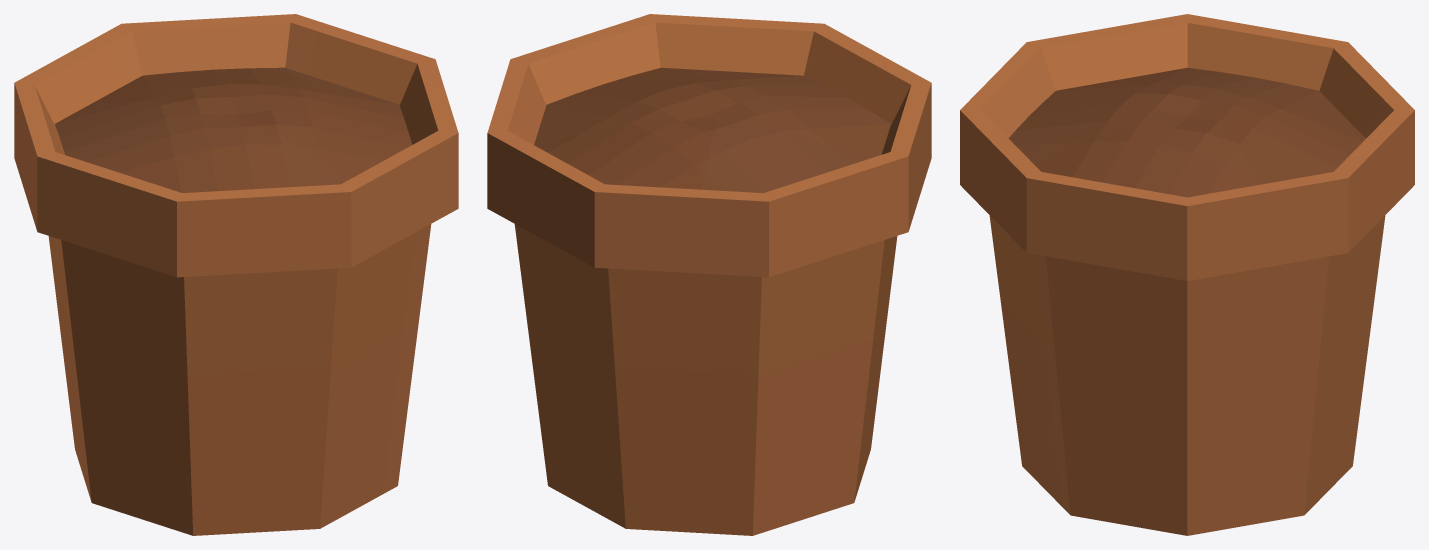
Rendered from potdirt.glb.
3 renders of one model, left to right at view 1: azimuth 30°, elevation 25°; view 2: azimuth 150°, elevation 25°; view 3: azimuth 270°, elevation 25°, orthographic.
Parts seen in each view (by area): view 1: Cylinder, Cylinder.001; view 2: Cylinder, Cylinder.001; view 3: Cylinder, Cylinder.001.
Boxes of the visible parts, <box> form: Cylinder: <box>14,14,458,535</box>; Cylinder.001: <box>55,67,412,192</box>; Cylinder: <box>487,14,931,535</box>; Cylinder.001: <box>534,67,890,192</box>; Cylinder: <box>960,14,1414,535</box>; Cylinder.001: <box>1008,67,1365,197</box>.
Bounding box in the file's own units: 2.2 × 1.9 × 2.2.
1 material, 1 textured.
